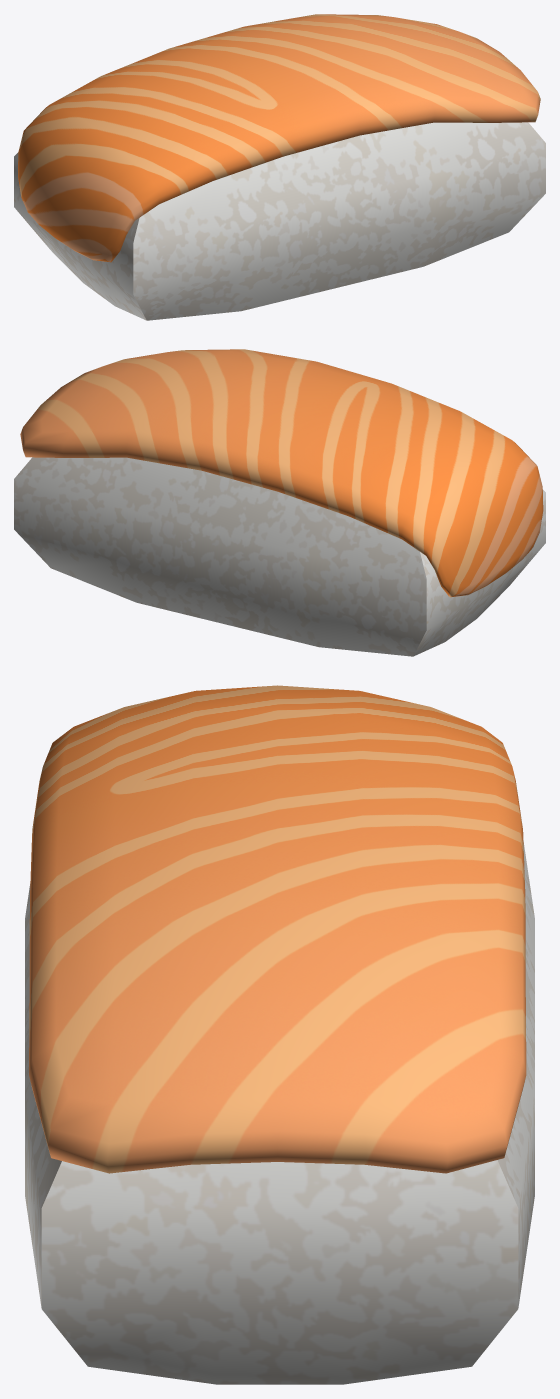
The model's file is Sushi.glb.
The picture shows the model from 3 angles, top to bottom: view 1: azimuth 30°, elevation 25°; view 2: azimuth 150°, elevation 25°; view 3: azimuth 270°, elevation 25°; orthographic projection. The views are drawn at different scales.
Visible parts, largest first — view 1: polySurface6; view 2: polySurface6; view 3: polySurface6.
Boxes of the visible parts, left/top/right/bottom form: polySurface6: left=14, top=14, right=545, bottom=320; polySurface6: left=14, top=349, right=545, bottom=656; polySurface6: left=25, top=685, right=534, bottom=1384.
Bounding box in the file's own units: 17.86 × 7.89 × 8.77.
Materials: 1 (1 with a texture image).
